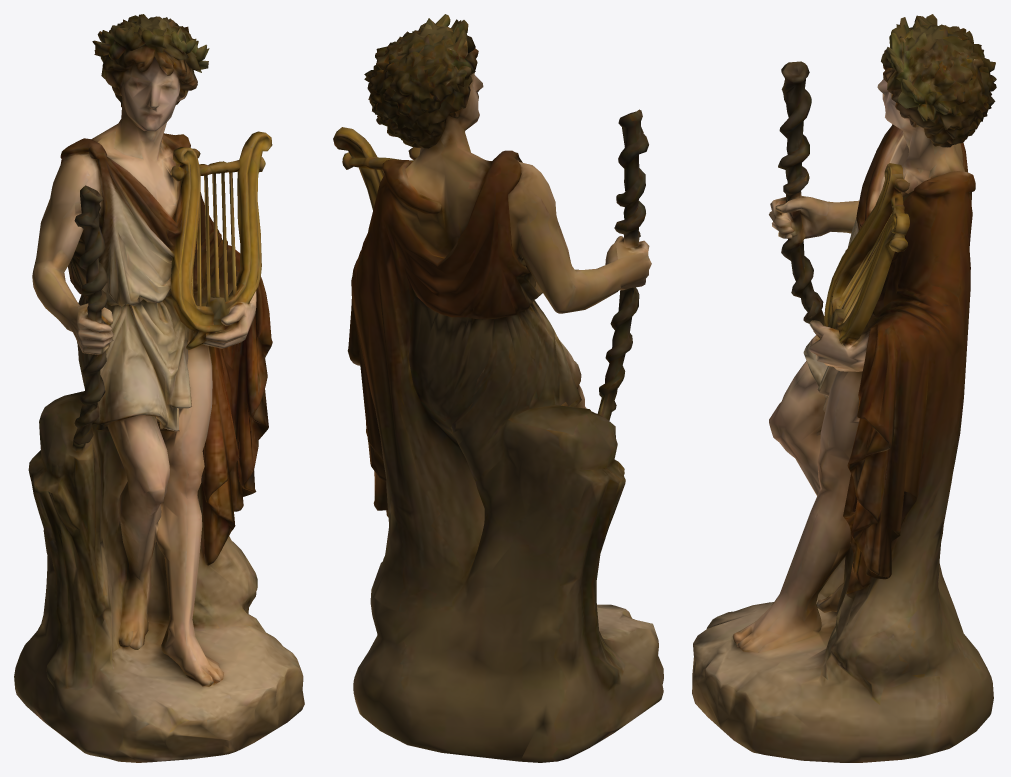
Rendered from orpheus.lean.glb.
3 views of the same model, side by side, from view 1: azimuth 30°, elevation 25°; view 2: azimuth 150°, elevation 25°; view 3: azimuth 270°, elevation 25° (orthographic). The views are drawn at different scales.
Parts seen in each view (by area): view 1: node_0; view 2: node_0; view 3: node_0.
Part boxes in pixels (bbox=[...]): node_0: bbox=[14, 14, 304, 762]; node_0: bbox=[333, 14, 663, 762]; node_0: bbox=[692, 14, 996, 762].
Size of the model in its own units: 0.4453 by 1.1 by 0.4387.
1 material, 1 textured.
